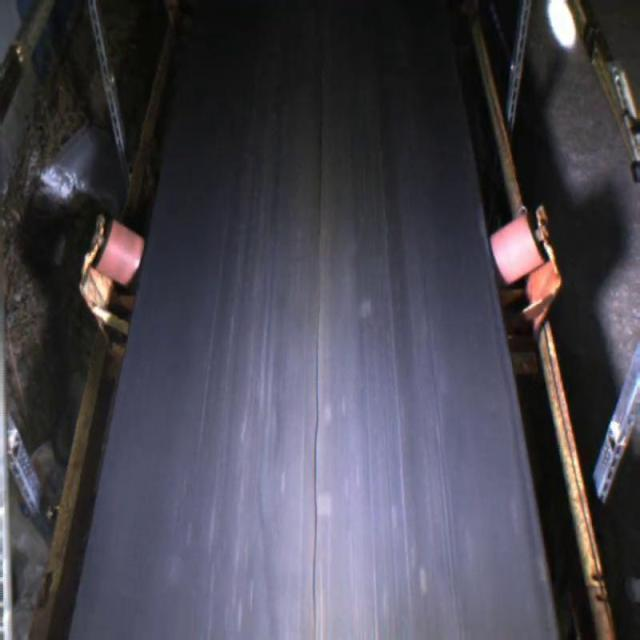Tear: (304, 35, 327, 640)
